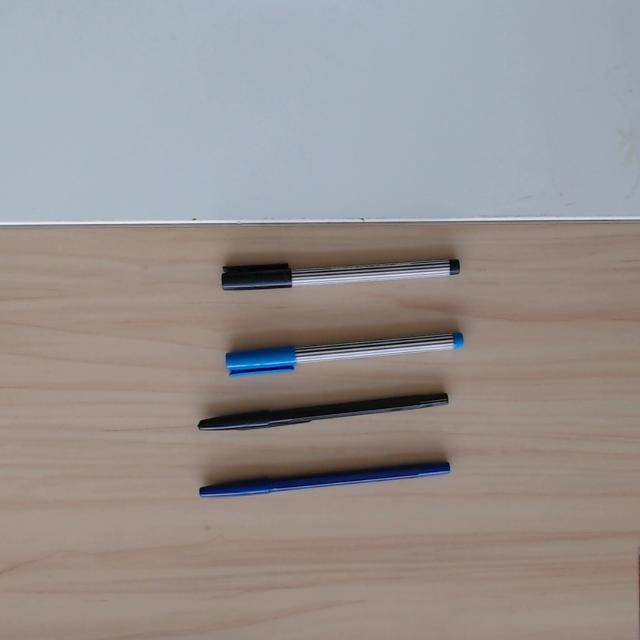Pulpen-Biru: (198, 457, 451, 501)
Pulpen-Garis-Biru: (225, 331, 465, 377)
Pulpen-Garis-Hitam: (219, 248, 461, 295)
Pulpen-Hitam: (197, 386, 449, 437)
